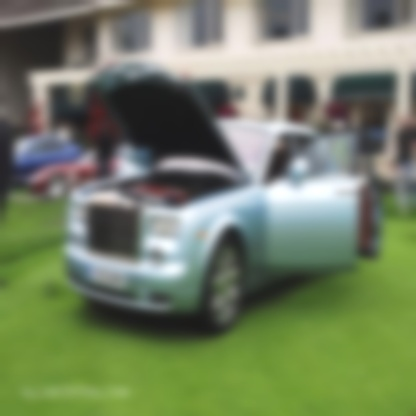Vehicle: (64, 60, 383, 336)
